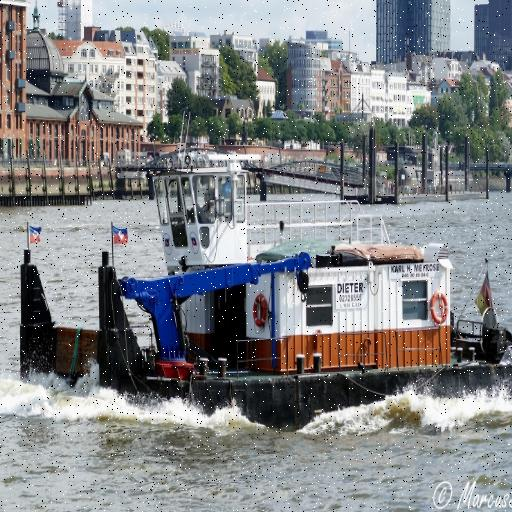tugboat: (18, 150, 512, 440)
